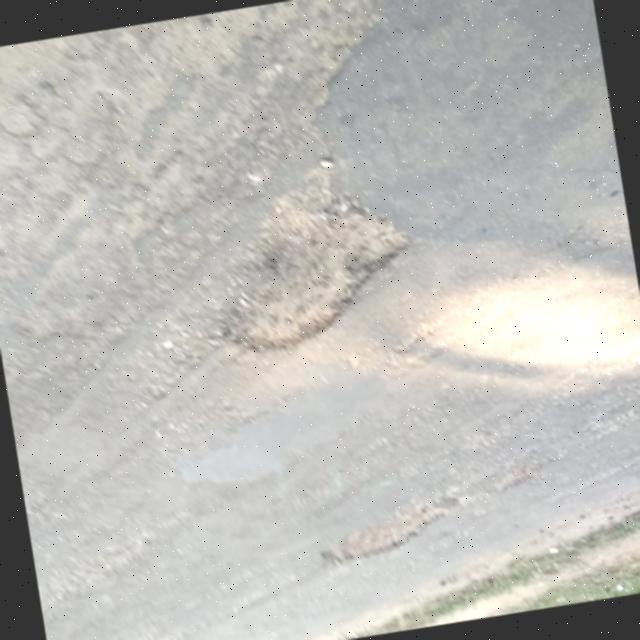Pothole: (219, 158, 426, 351), (339, 499, 469, 568)
